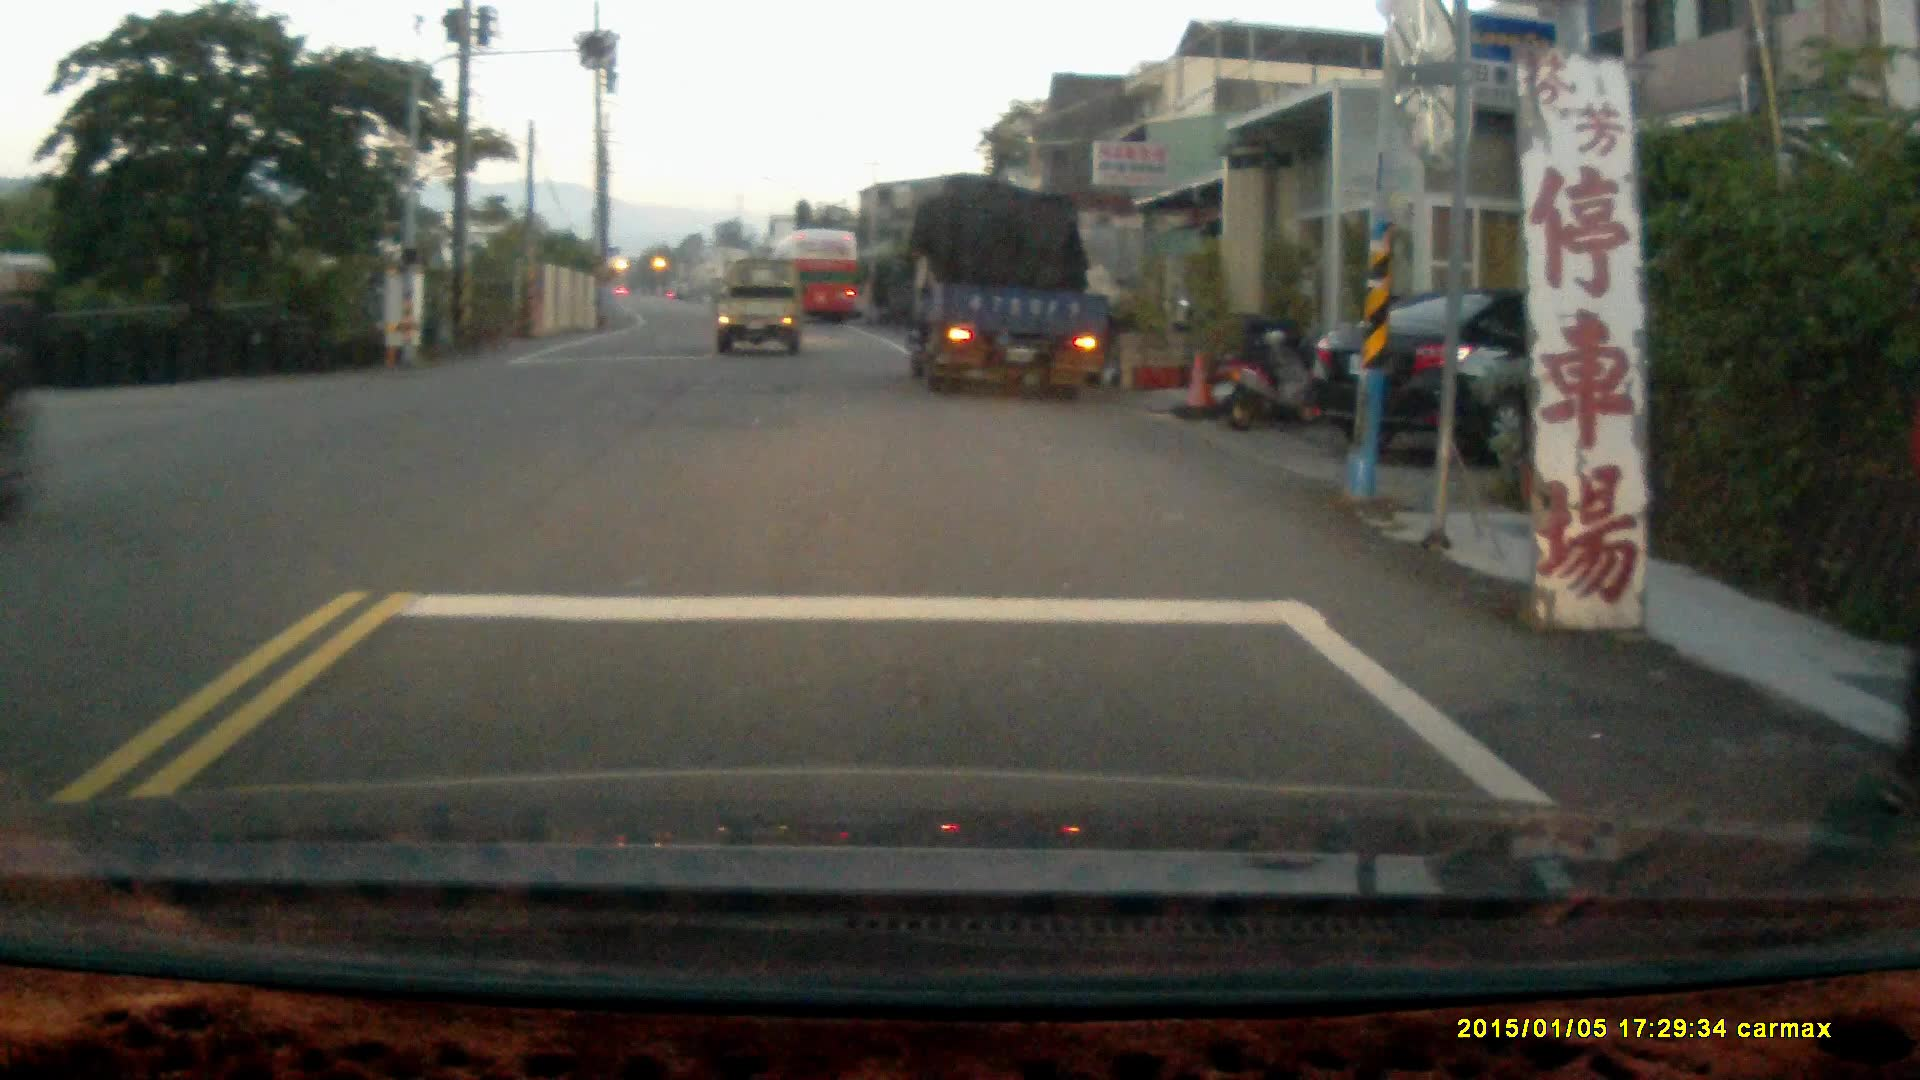vehicle: (1307, 286, 1704, 472), (913, 181, 1118, 389), (771, 229, 865, 334), (717, 258, 807, 352)
